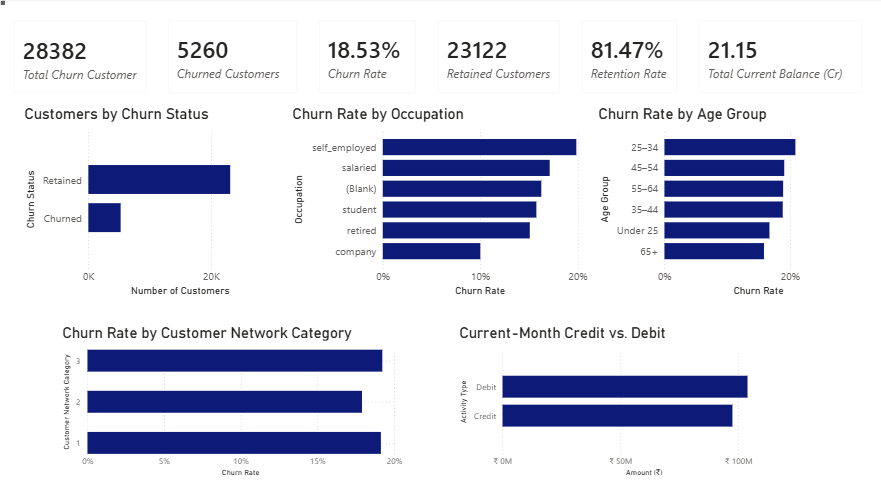

This screenshot's page, from the dashboard's own definition file:
{"tool":"powerbi","page":{"name":"Retention & Churn","canvas":[1280,720],"ordinal":3},"visuals":[{"type":"cardVisual","fields":{"Data":["FACT_CHURN.Total Customers CR"]},"box":[5.8,14.4,225,140],"z":0},{"type":"cardVisual","fields":{"Data":["FACT_CHURN.Total Churned Customers"]},"box":[227.9,14.4,220,139.7],"z":1000},{"type":"cardVisual","fields":{"Data":["FACT_CHURN.Total Retained Customers"]},"box":[616.3,14.4,210.2,139.7],"z":2000},{"type":"cardVisual","fields":{"Data":["FACT_CHURN.Churn Rate"]},"box":[445,14.4,174.2,139.7],"z":3000},{"type":"cardVisual","fields":{"Data":["FACT_CHURN.Retention Rate"]},"box":[823.7,14.4,171.4,139.7],"z":4000},{"type":"actionButton","box":[0,0,100,40],"z":5000},{"type":"clusteredBarChart","title":"Customers by Churn Status","fields":{"Y":["FACT_CHURN.Total Customers CR"],"Category":["FACT_CHURN.Churn Status"]},"box":[33.1,154.1,380,280.8],"z":6000},{"type":"clusteredBarChart","title":"Churn Rate by Occupation","fields":{"Category":["DIM_CHURN_CUSTOMER.OCCUPATION"],"Y":["FACT_CHURN.Churn Rate"]},"box":[418.9,154.1,435,280.8],"z":7000},{"type":"clusteredBarChart","title":"Churn Rate by Customer Network Category","fields":{"Category":["DIM_CHURN_CUSTOMER.CUSTOMER_NW_CATEGORY"],"Y":["FACT_CHURN.Churn Rate"]},"box":[87.8,469.4,499.7,225],"z":8000},{"type":"clusteredBarChart","title":"Churn Rate by Age Group","fields":{"Y":["FACT_CHURN.Churn Rate"],"Category":["DIM_CHURN_CUSTOMER.Age Group"]},"box":[859.7,154.1,390.2,280.8],"z":9000},{"type":"cardVisual","fields":{"Data":["FACT_CHURN.Total Current Balance (Cr)"]},"box":[992.2,14.4,269.3,139.7],"z":10000},{"type":"clusteredBarChart","title":"Current-Month Credit vs. Debit","fields":{"Category":["Financial Activity.Activity Type"],"Y":["Financial Activity.Financial Activity Amount"]},"box":[659.5,469.4,499.7,225],"z":11000}]}

Visuals, with their boxes in screenshot pixels (x1, y1, x2, y2), scaled from the page's 1280x720 canvas onto the 881x494 screenshot:
cardVisual - FACT_CHURN.Total Customers CR: [left=4, top=10, right=159, bottom=106]
cardVisual - FACT_CHURN.Total Churned Customers: [left=157, top=10, right=308, bottom=106]
cardVisual - FACT_CHURN.Total Retained Customers: [left=424, top=10, right=569, bottom=106]
cardVisual - FACT_CHURN.Churn Rate: [left=306, top=10, right=426, bottom=106]
cardVisual - FACT_CHURN.Retention Rate: [left=567, top=10, right=685, bottom=106]
actionButton: [left=0, top=0, right=69, bottom=27]
"Customers by Churn Status" clusteredBarChart: [left=23, top=106, right=284, bottom=298]
"Churn Rate by Occupation" clusteredBarChart: [left=288, top=106, right=588, bottom=298]
"Churn Rate by Customer Network Category" clusteredBarChart: [left=60, top=322, right=404, bottom=476]
"Churn Rate by Age Group" clusteredBarChart: [left=592, top=106, right=860, bottom=298]
cardVisual - FACT_CHURN.Total Current Balance (Cr): [left=683, top=10, right=868, bottom=106]
"Current-Month Credit vs. Debit" clusteredBarChart: [left=454, top=322, right=798, bottom=476]
